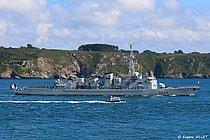MIL_Ship: (13, 44, 201, 97)
